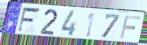1: (86, 13, 95, 38)
2: (39, 9, 58, 37)
4: (60, 10, 77, 38)
7: (101, 13, 121, 40)
F: (16, 7, 42, 34), (119, 15, 142, 40)
